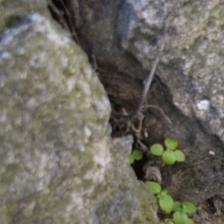Crack: (25, 4, 184, 197)
